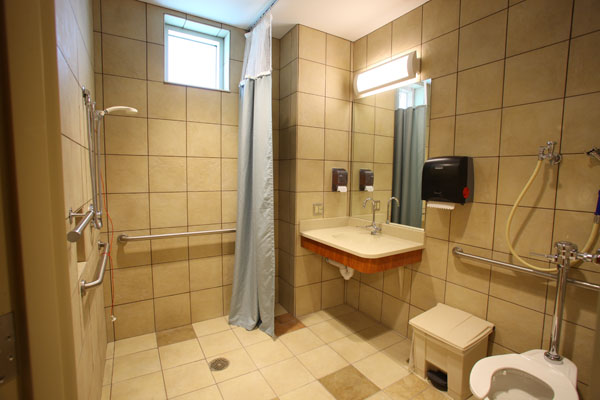counter: (300, 217, 430, 271)
countertop: (307, 223, 415, 250)
curtain: (236, 20, 282, 340)
dispenser: (421, 156, 475, 211), (332, 167, 352, 193)
faucet: (361, 199, 382, 235)
restroom_assist_bar: (454, 247, 600, 296), (118, 227, 238, 247), (79, 243, 114, 296), (67, 207, 98, 242)
sink: (331, 229, 402, 258)
toilet: (468, 347, 581, 400)
toilet_handle: (527, 248, 560, 264)
waste_bin: (407, 303, 495, 396)
